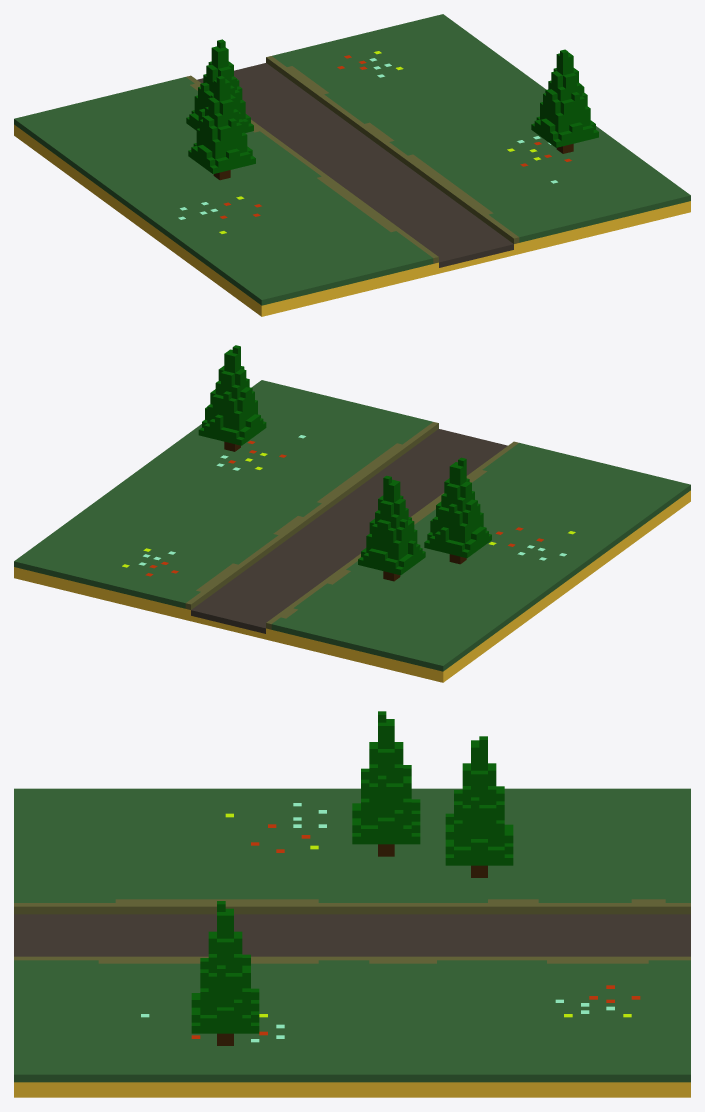
Rendered from straightDirtRoad.obj.
The picture shows the model from 3 angles, top to bottom: view 1: azimuth 30°, elevation 25°; view 2: azimuth 150°, elevation 25°; view 3: azimuth 270°, elevation 25°; orthographic projection. The views are drawn at different scales.
Visible parts, largest first — view 1: straightDirtRoad; view 2: straightDirtRoad; view 3: straightDirtRoad.
Boxes of the visible parts, bbox=[...] form: straightDirtRoad: bbox=[14, 14, 690, 316]; straightDirtRoad: bbox=[14, 345, 690, 682]; straightDirtRoad: bbox=[14, 711, 690, 1097].
Bounding box in the file's own units: 80 × 21 × 80.
Materials: 1 (1 with a texture image).
